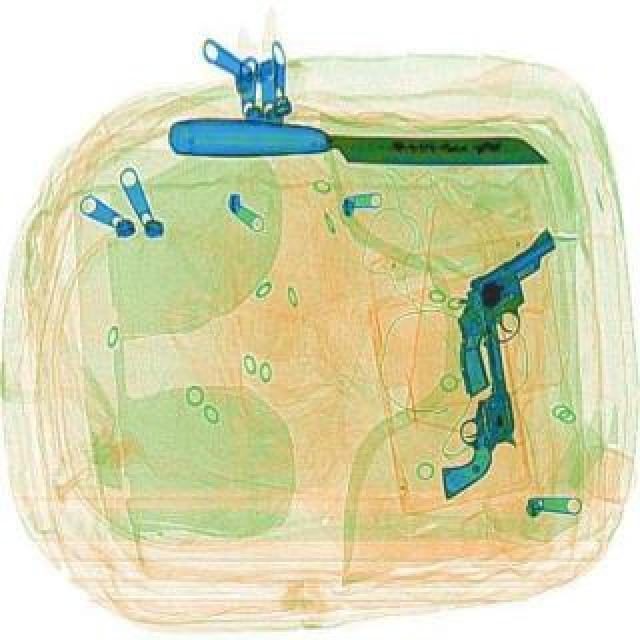gun: (406, 224, 610, 396), (412, 286, 524, 498)
knife: (164, 112, 548, 176)
